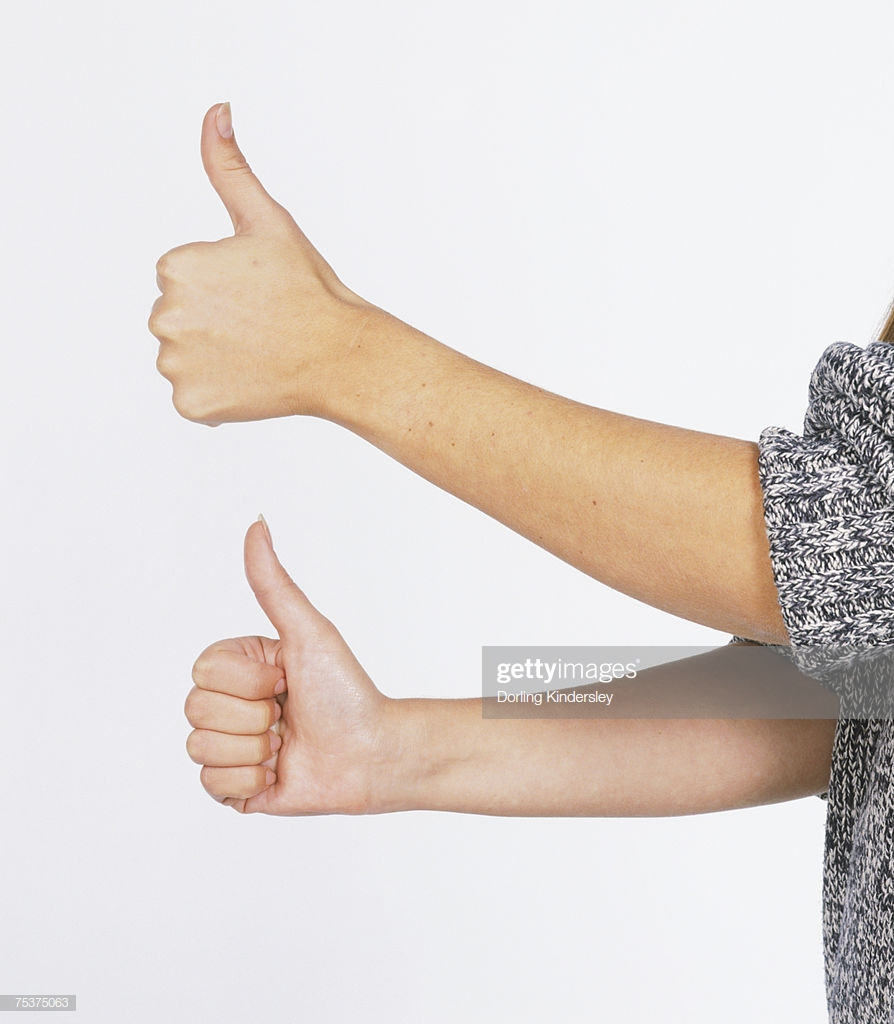thumbsup: (147, 100, 291, 422), (184, 514, 327, 816)
